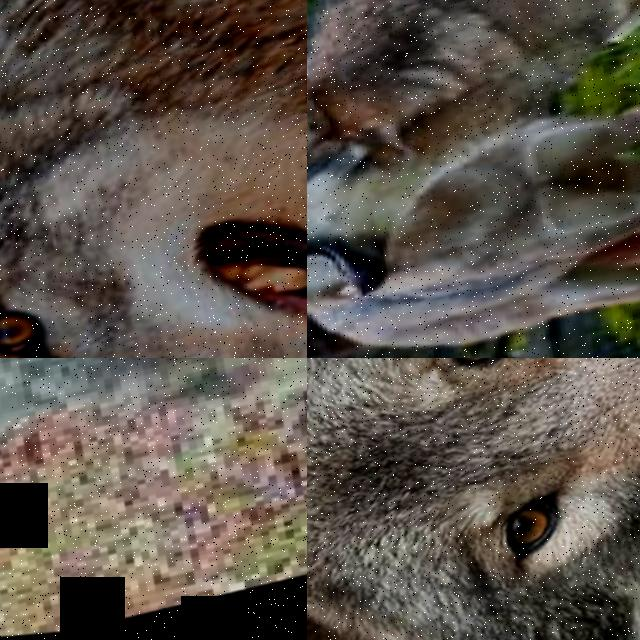wolf: (307, 0, 640, 343), (0, 0, 307, 358), (307, 358, 640, 640), (0, 358, 307, 578), (307, 255, 640, 358)
